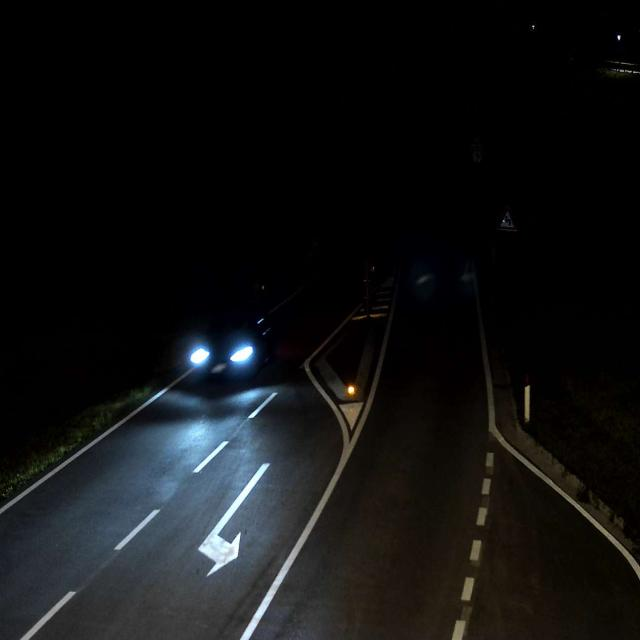car: (185, 307, 277, 382)
